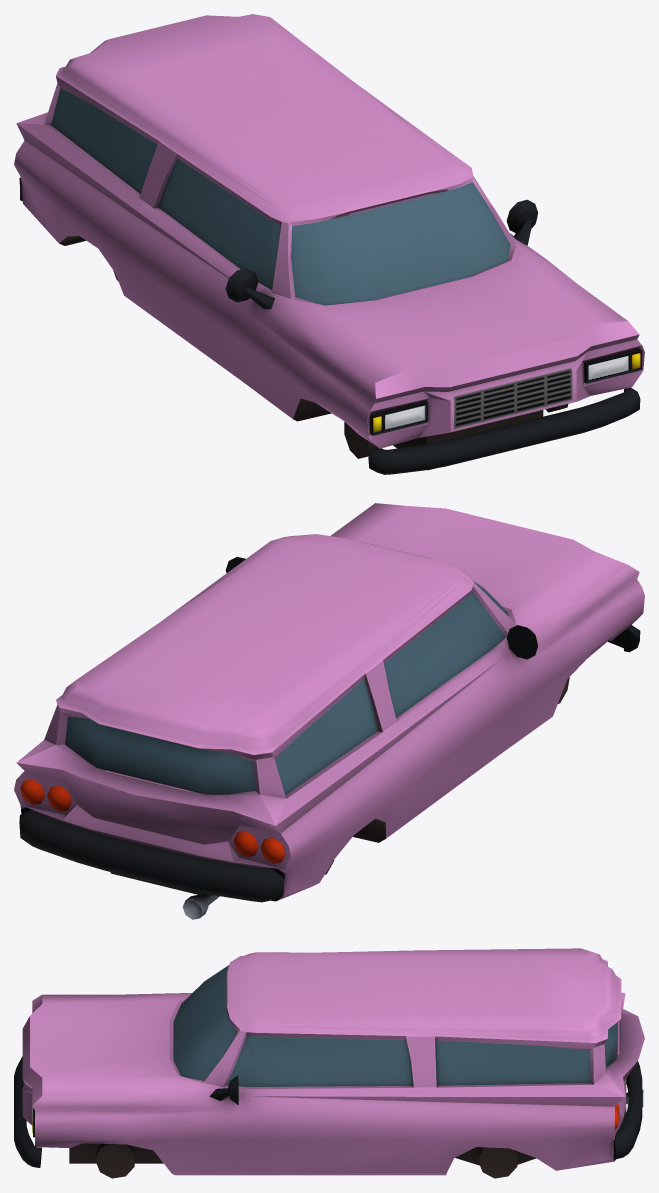
File: LEstate_Car_v1.FBX
The picture shows the model from 3 angles, top to bottom: view 1: azimuth 30°, elevation 25°; view 2: azimuth 150°, elevation 25°; view 3: azimuth 270°, elevation 25°; orthographic projection. The views are drawn at different scales.
Visible parts, largest first — view 1: LEstate_Car_v1; view 2: LEstate_Car_v1; view 3: LEstate_Car_v1.
Boxes of the visible parts, x1,y1,x2,y2 form: LEstate_Car_v1: (14, 14, 644, 474); LEstate_Car_v1: (14, 503, 644, 919); LEstate_Car_v1: (14, 948, 644, 1178).
Bounding box in the file's own units: 2.97 × 1.74 × 6.34.
